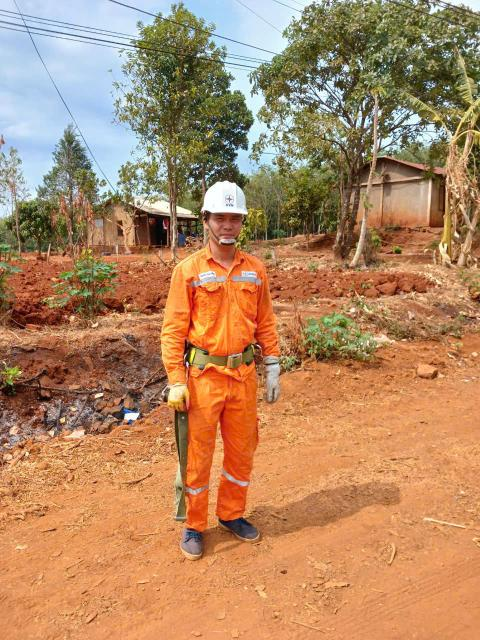gloves: (246, 356, 292, 407), (155, 378, 200, 417)
harness: (166, 336, 262, 379)
helmet: (202, 169, 260, 230)
shoes: (173, 519, 219, 569), (219, 507, 260, 555)
